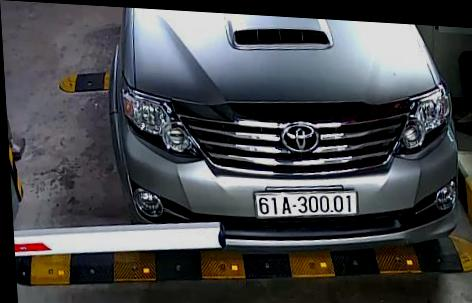License_Plate: (251, 182, 362, 223)
